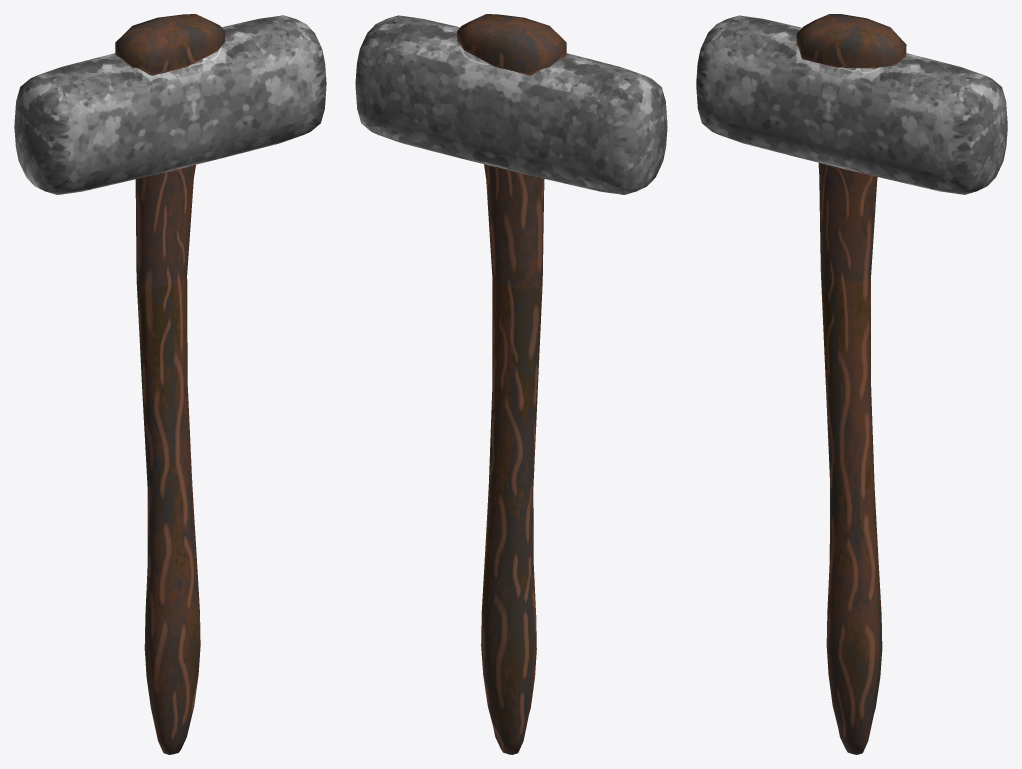
File: Hammer_Cvl_16-11.fbx
The picture shows the model from 3 angles, left to right: view 1: azimuth 30°, elevation 25°; view 2: azimuth 150°, elevation 25°; view 3: azimuth 330°, elevation 25°; orthographic projection.
Parts seen in each view (by area): view 1: Cube.003; view 2: Cube.003; view 3: Cube.003.
Boxes of the visible parts, left/top/right/bottom form: Cube.003: left=14, top=14, right=326, bottom=754; Cube.003: left=355, top=14, right=667, bottom=754; Cube.003: left=696, top=14, right=1007, bottom=754.
Size of the model in its own units: 402 by 961 by 114.
Materials: 1 (1 with a texture image).
